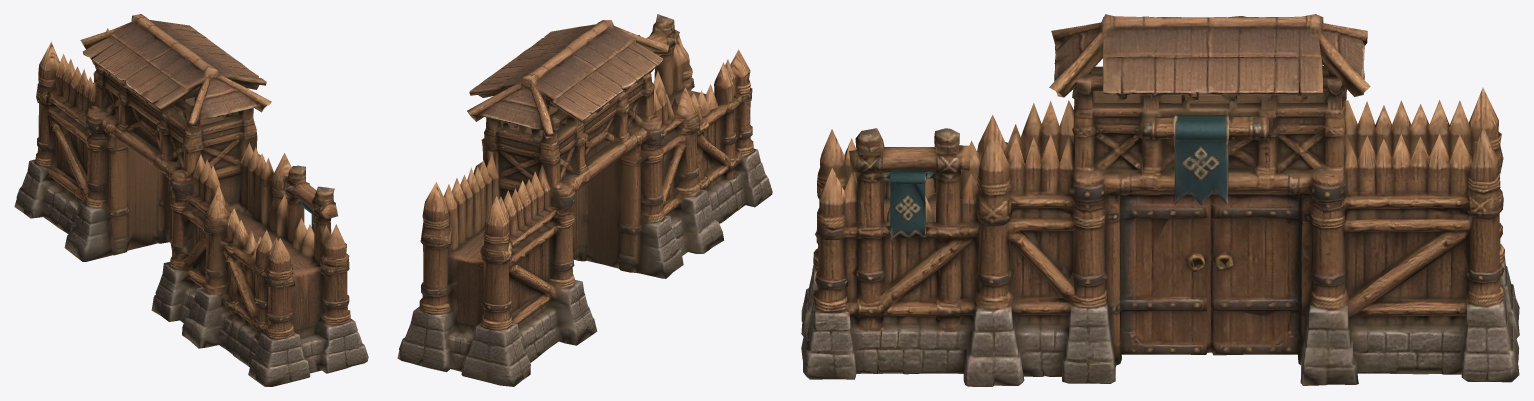
File: sur-sv5.glb
3 views of the same model, side by side, from view 1: azimuth 30°, elevation 25°; view 2: azimuth 150°, elevation 25°; view 3: azimuth 270°, elevation 25° (orthographic). The views are drawn at different scales.
Visible parts, largest first — view 1: tripo_node_ad493156-7ef5-4131-b280-904e08fe5c01; view 2: tripo_node_ad493156-7ef5-4131-b280-904e08fe5c01; view 3: tripo_node_ad493156-7ef5-4131-b280-904e08fe5c01.
Part boxes in pixels (<box>): tripo_node_ad493156-7ef5-4131-b280-904e08fe5c01: <box>14,14,368,386</box>; tripo_node_ad493156-7ef5-4131-b280-904e08fe5c01: <box>397,14,772,386</box>; tripo_node_ad493156-7ef5-4131-b280-904e08fe5c01: <box>801,14,1519,386</box>.
Size of the model in its own units: 0.2844 by 0.5027 by 1.
1 material, 1 textured.
